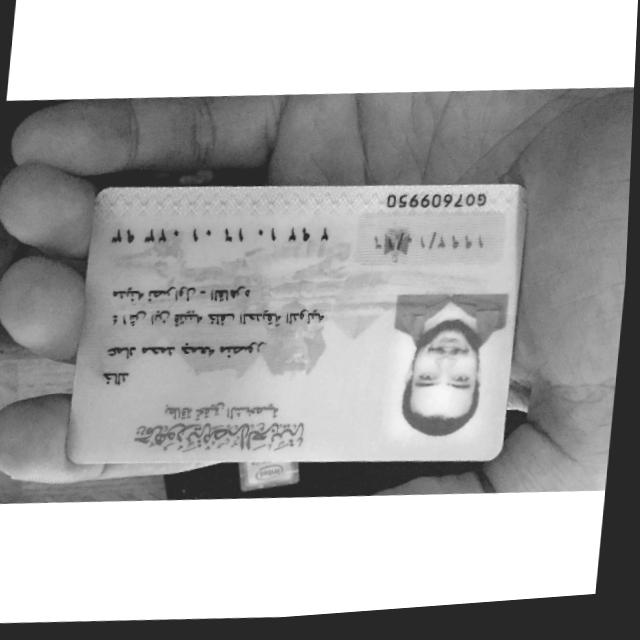id_card: (66, 185, 527, 464)
